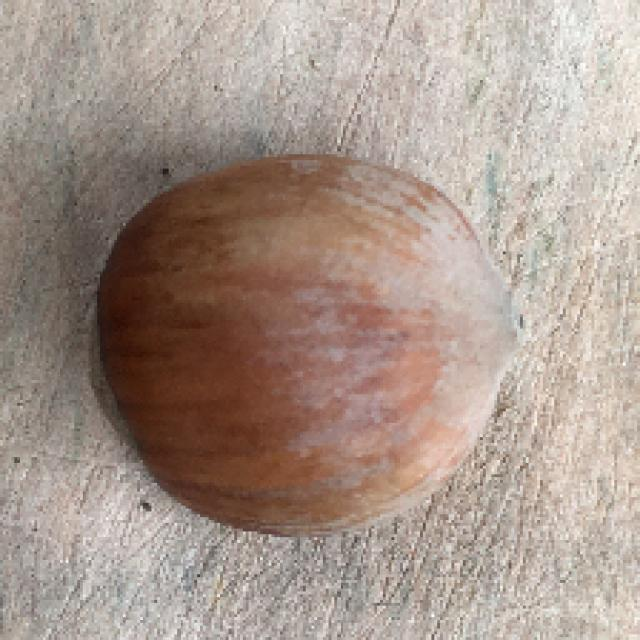qualityHazelnut: (73, 150, 526, 554)
